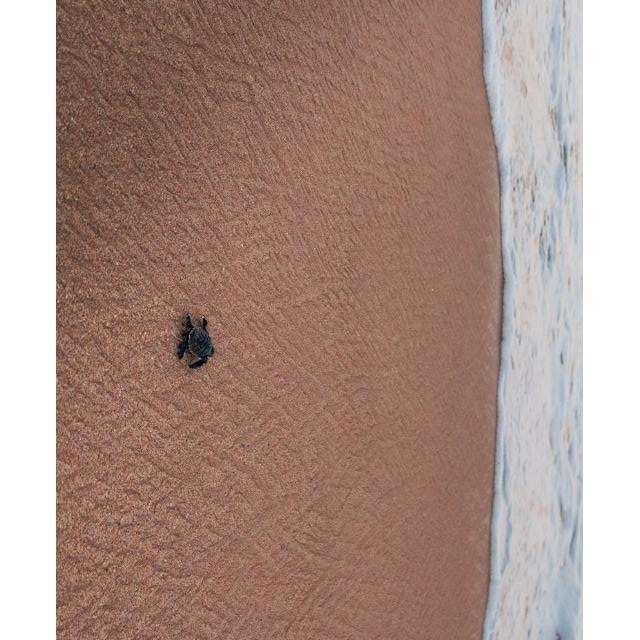turtle: (176, 314, 215, 371)
